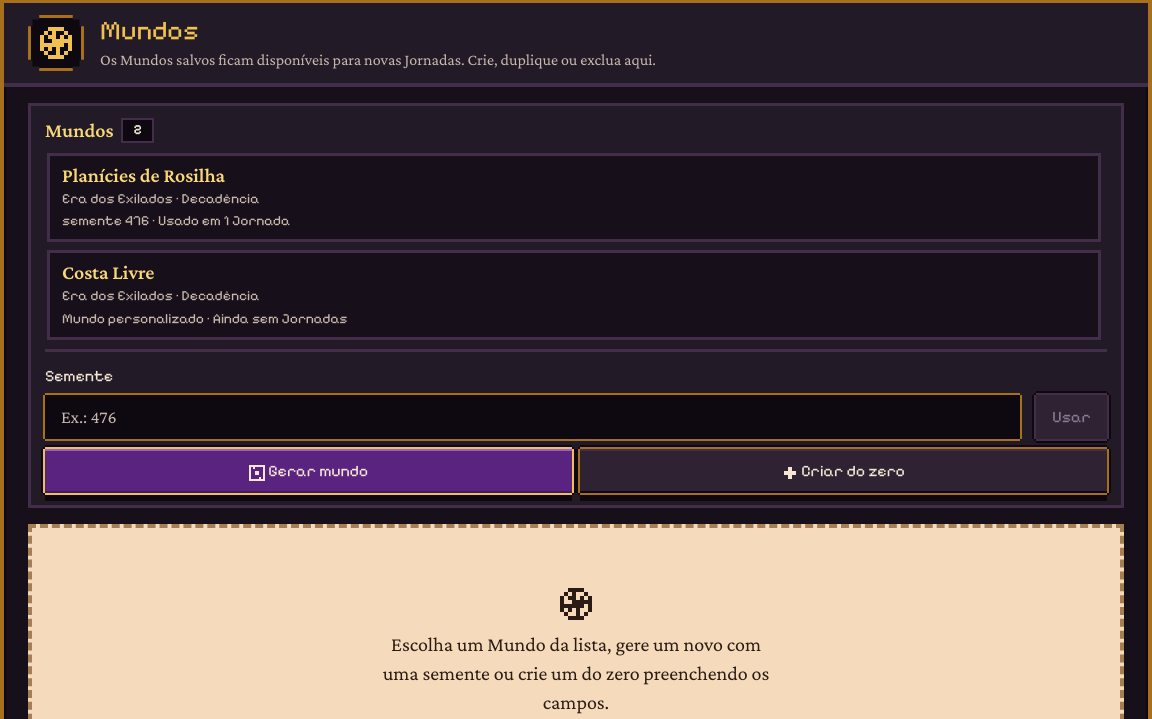
Test: Tela de Mundos (modelo provisório) › Excluir pede confirmação e apaga um Mundo sem Jornadas
Click the option "Costa Livre" at (108, 272), box [47,250,1101,340]
(page scrolled)
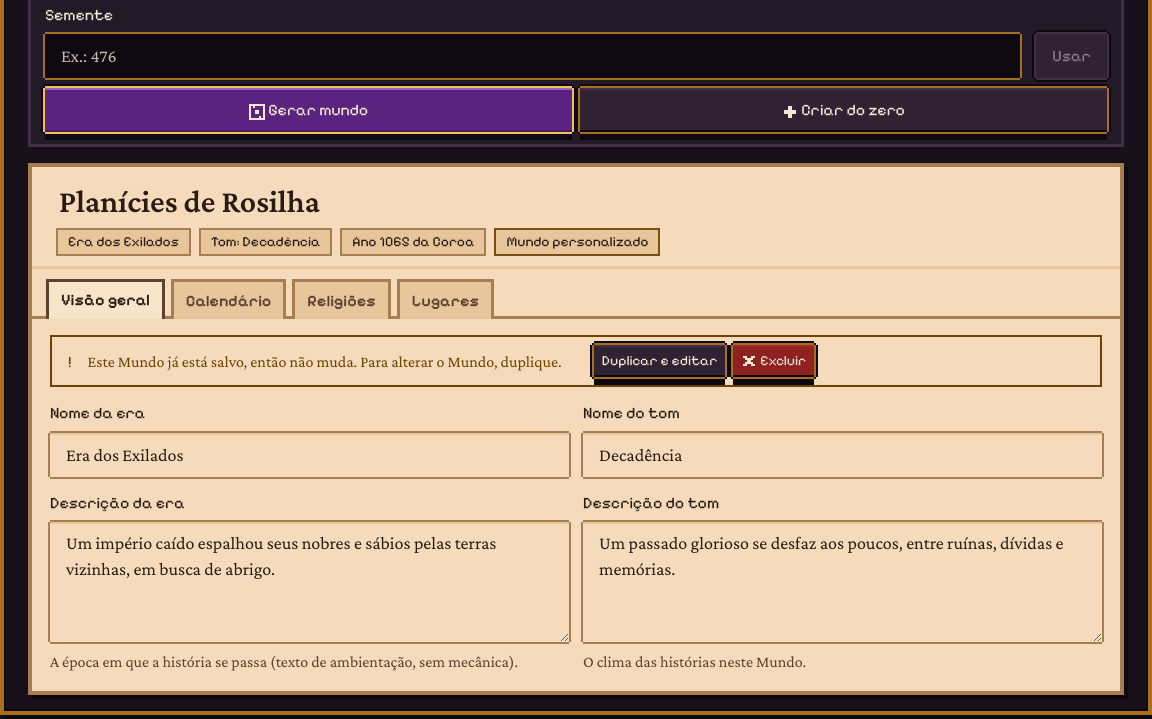
Click the button "Excluir" at (774, 362), box [733,346,814,378]
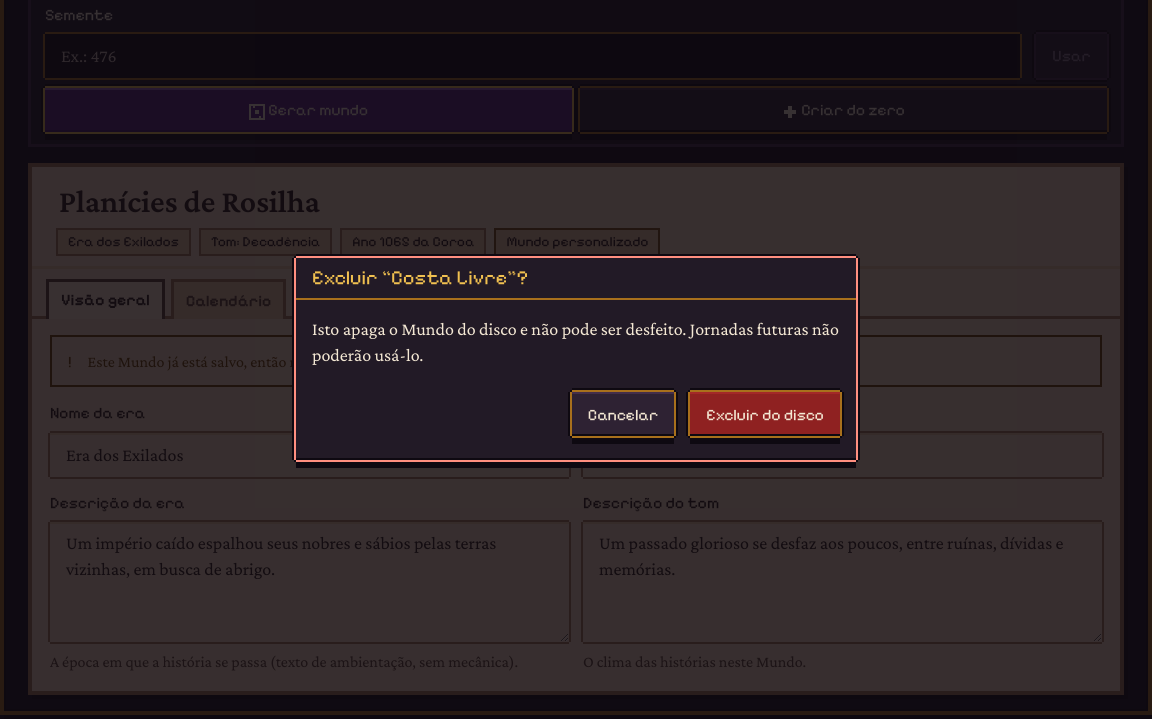
Click the button "Excluir do disco" at (765, 414), box [690,392,840,436]
(page scrolled)
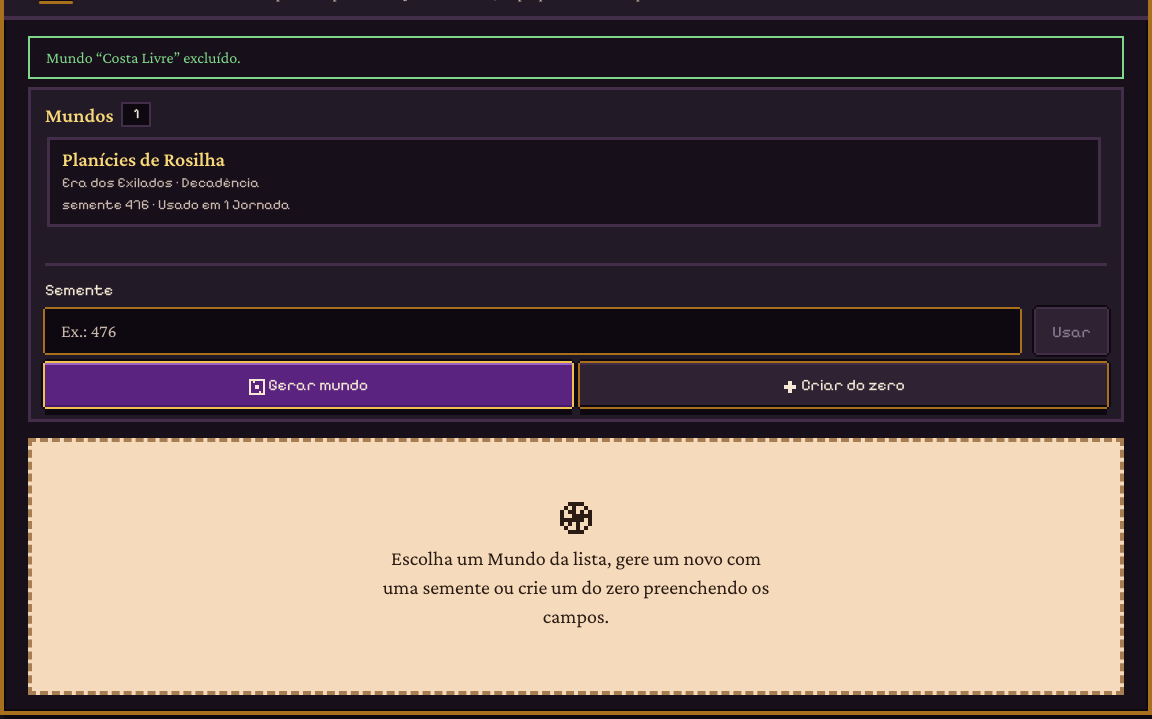
Check: the text "Mundo “Costa Livre” excluído." is shown, box [28,36,1124,79]
